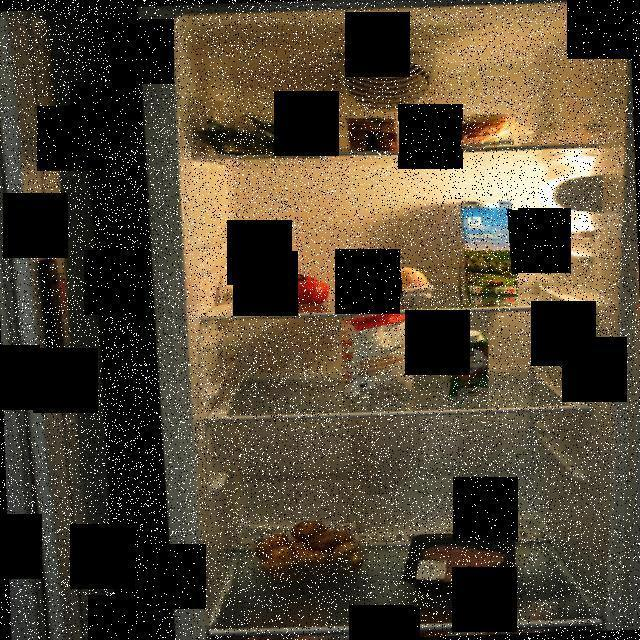bread: (418, 114, 516, 152)
chicken_breast: (402, 534, 516, 590)
corn: (340, 112, 399, 155)
egg: (358, 267, 442, 301)
green_beans: (201, 108, 323, 160)
heavy_cream: (446, 328, 488, 400)
milk: (454, 194, 518, 306)
potato: (252, 521, 358, 581)
sugar: (342, 314, 414, 400)
tomato: (245, 265, 335, 304)
